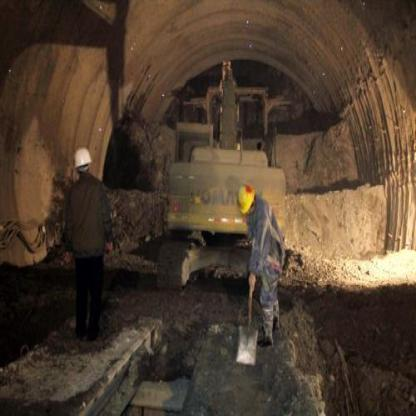helmet: (237, 183, 261, 216), (71, 147, 92, 184)
